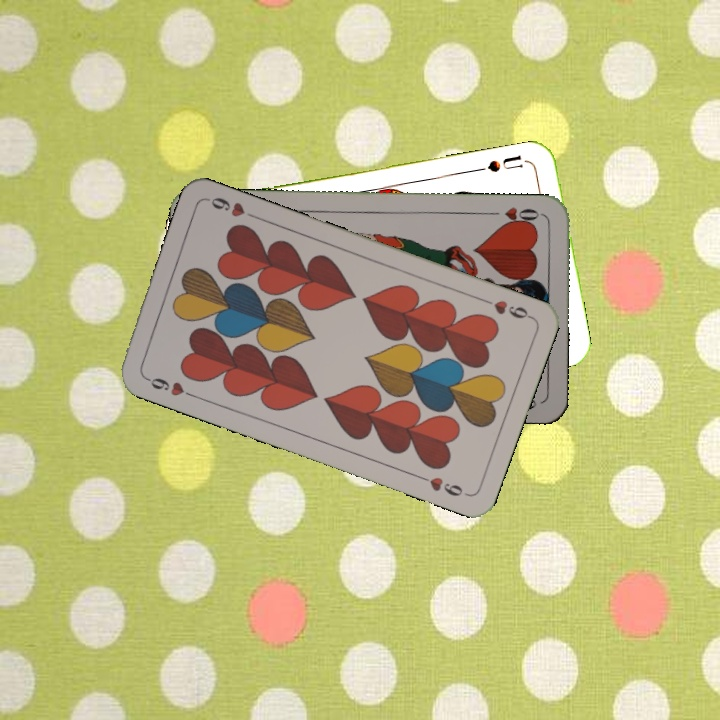H9: (477, 294, 534, 322), (140, 372, 197, 400)
HO: (485, 203, 544, 229)
SU: (483, 151, 525, 175)
